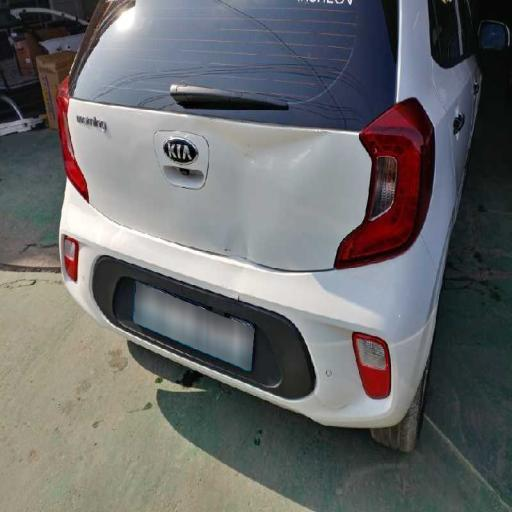dent: (90, 66, 380, 296), (301, 339, 414, 453)
